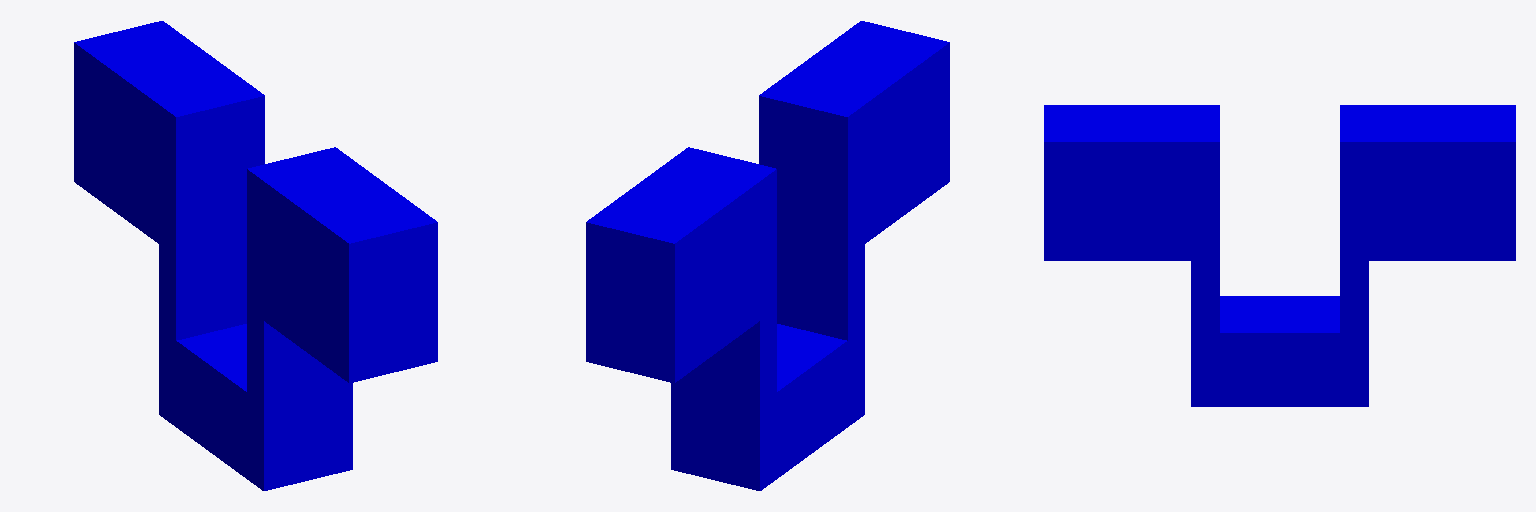
robot.urdf — block3:
<?xml version="1.0"?>
<robot name="block3">
    <link name="block3">
        <visual>
            <origin xyz="0 0 0" rpy=" 0 0 0"/>
            <geometry>
                <mesh filename="../meshes/block3.stl"/>
            </geometry>
            <material name="red">
                <color rgba="0.0 0.0 1.0 1.0"/>
            </material>
        </visual>
        <collision>
            <origin xyz="0 0 0" rpy="0 0 0"/>
            <geometry>
                <mesh filename="../meshes/block3.stl"/>
            </geometry>
        </collision>
    </link>
</robot>

--- What the picture shows (computed from the rendered views, not written in the file) ---
The picture shows the robot from 3 angles, left to right: view 1: azimuth 30°, elevation 25°; view 2: azimuth 150°, elevation 25°; view 3: azimuth 270°, elevation 25°; orthographic projection.
Robot: block3 — 1 links, 0 joints (none); root link block3; default pose: every joint at zero.
Links seen in each view (by area): view 1: block3; view 2: block3; view 3: block3.
Link boxes in pixels (box(x1,y1,x2,y2)): block3: box(74, 21, 437, 490); block3: box(586, 21, 949, 490); block3: box(1044, 105, 1515, 406).
Size in the robot's own frame: 0.03 by 0.161 by 0.1 metres.
1 mesh visuals loaded from 1 distinct referenced files (1 binary STL).
